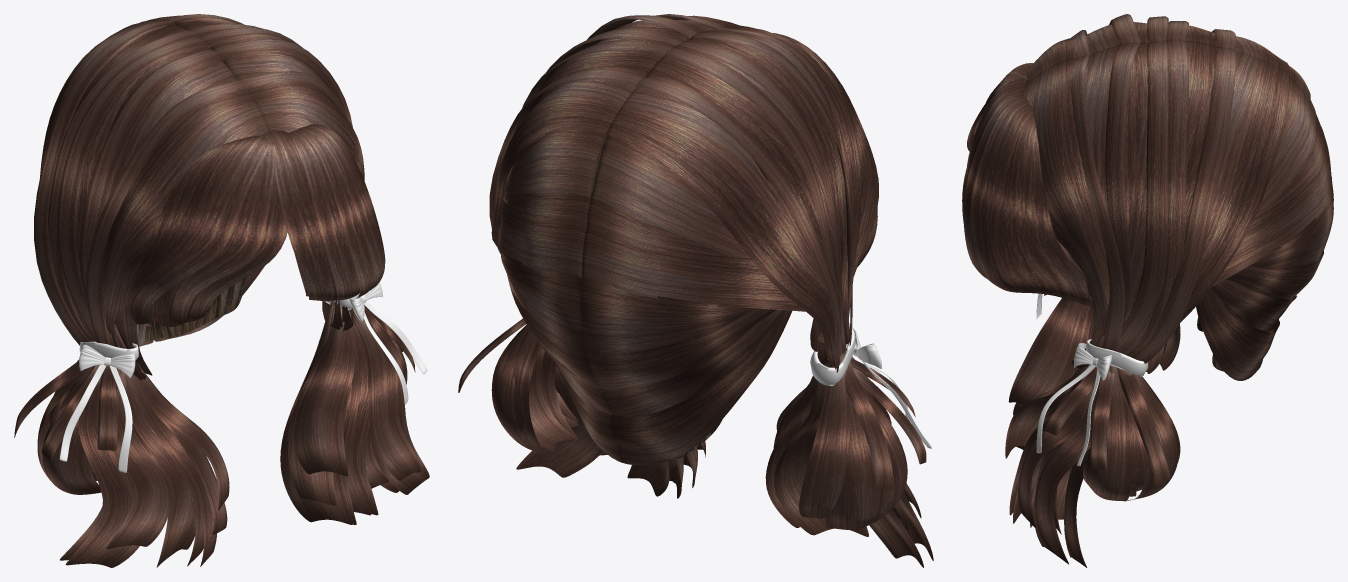
The model's file is GirlHair1.glb.
The picture shows the model from 3 angles, left to right: view 1: azimuth 30°, elevation 25°; view 2: azimuth 150°, elevation 25°; view 3: azimuth 270°, elevation 25°; orthographic projection. The views are drawn at different scales.
Parts seen in each view (by area): view 1: SallyMae for Genesis; view 2: SallyMae for Genesis; view 3: SallyMae for Genesis.
Boxes of the visible parts, x1=… form: SallyMae for Genesis: x1=14, y1=14, x2=429, y2=567; SallyMae for Genesis: x1=458, y1=14, x2=933, y2=567; SallyMae for Genesis: x1=962, y1=14, x2=1333, y2=567.
Bounding box in the file's own units: 27.25 × 30.87 × 23.11.
9 materials, 9 textured.
